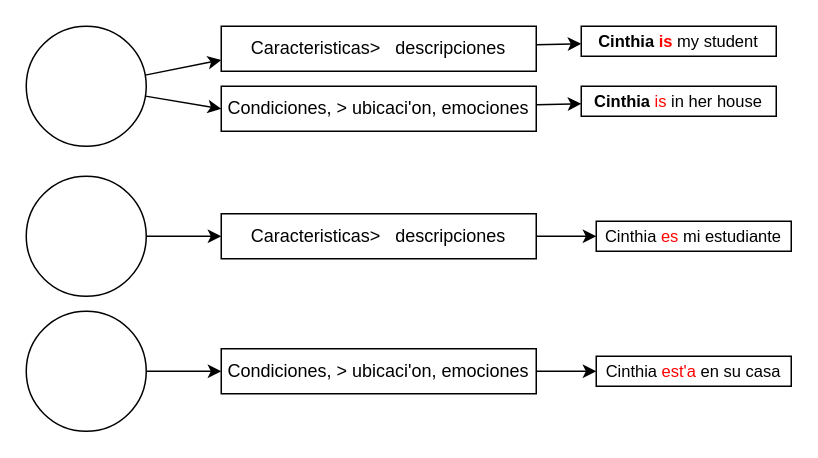
The diagram is 818 pixels wide and 458 high, and some of its shapes have lost their labels. The box of each missing label's shape, as (x1, y1, x2, y2) in pixels:
estar: (25, 310, 146, 431)
ser: (25, 175, 146, 296)
Verbo to be: (25, 25, 146, 146)
